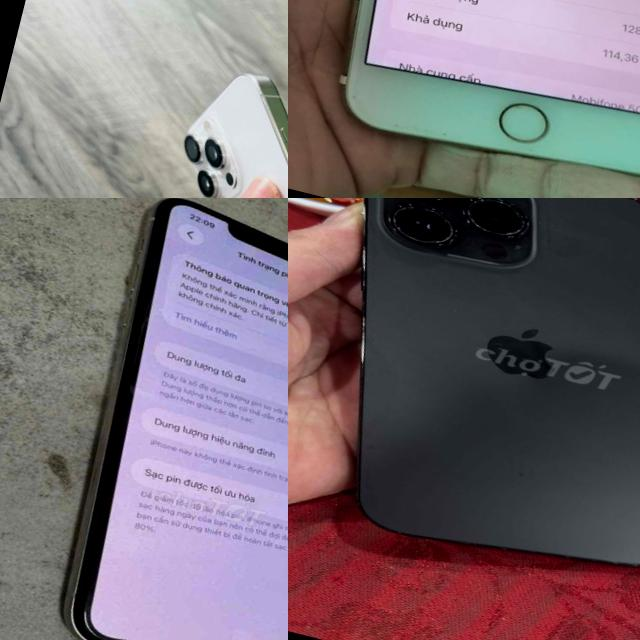scratch: (383, 112, 456, 140), (497, 95, 538, 115), (352, 90, 364, 104)
